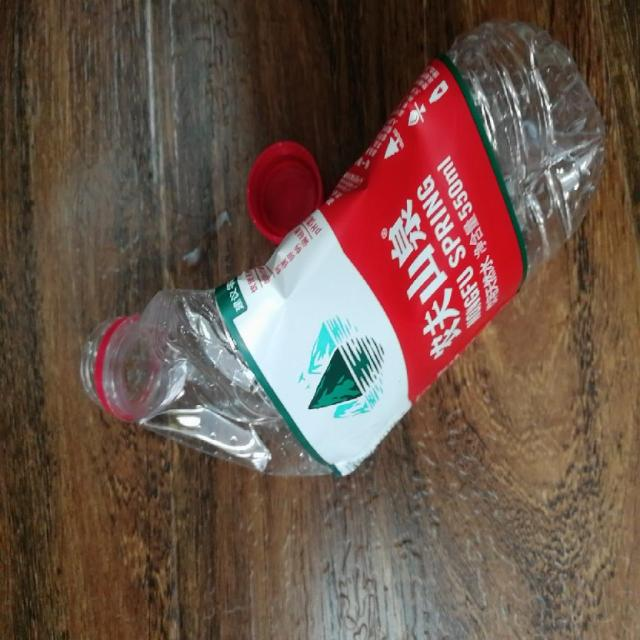-Recyclables - plastic bottle-: (83, 33, 598, 475)
